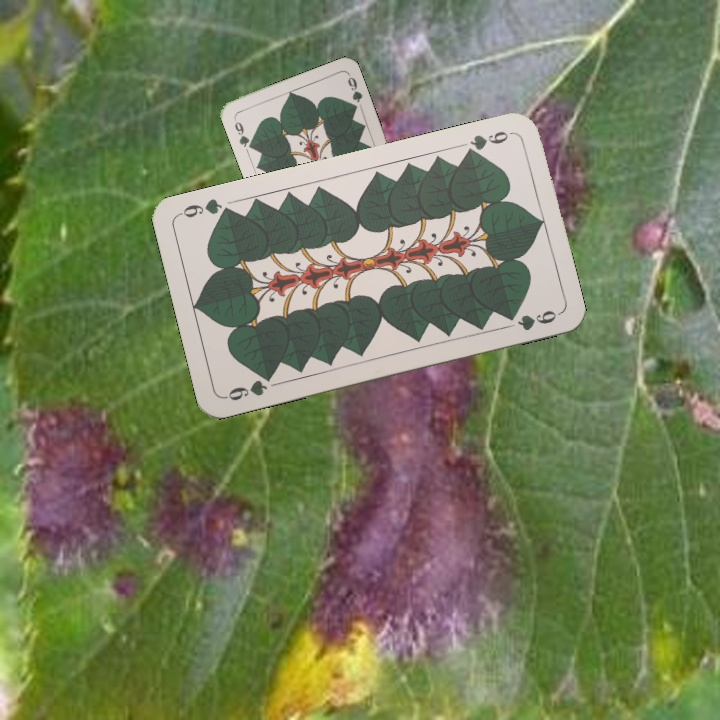G9: (221, 370, 276, 404), (460, 127, 516, 158), (229, 114, 255, 151)
